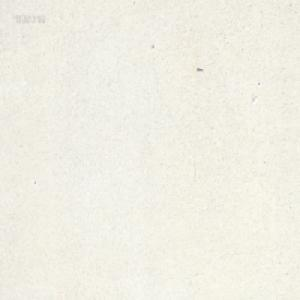Nail: (197, 67, 203, 71)
